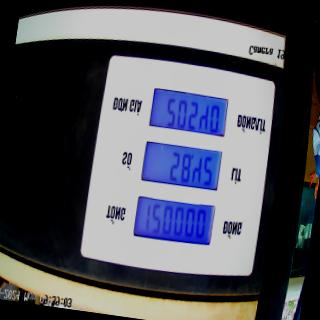screen: (130, 84, 232, 250)
